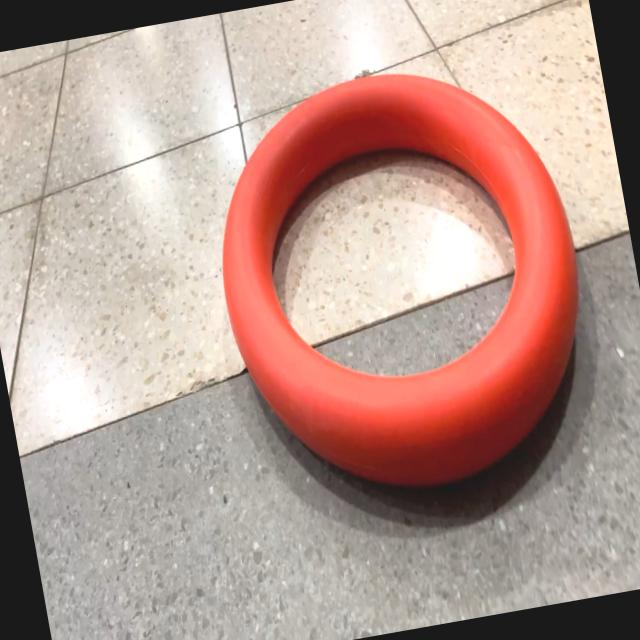note: (189, 42, 613, 520)
